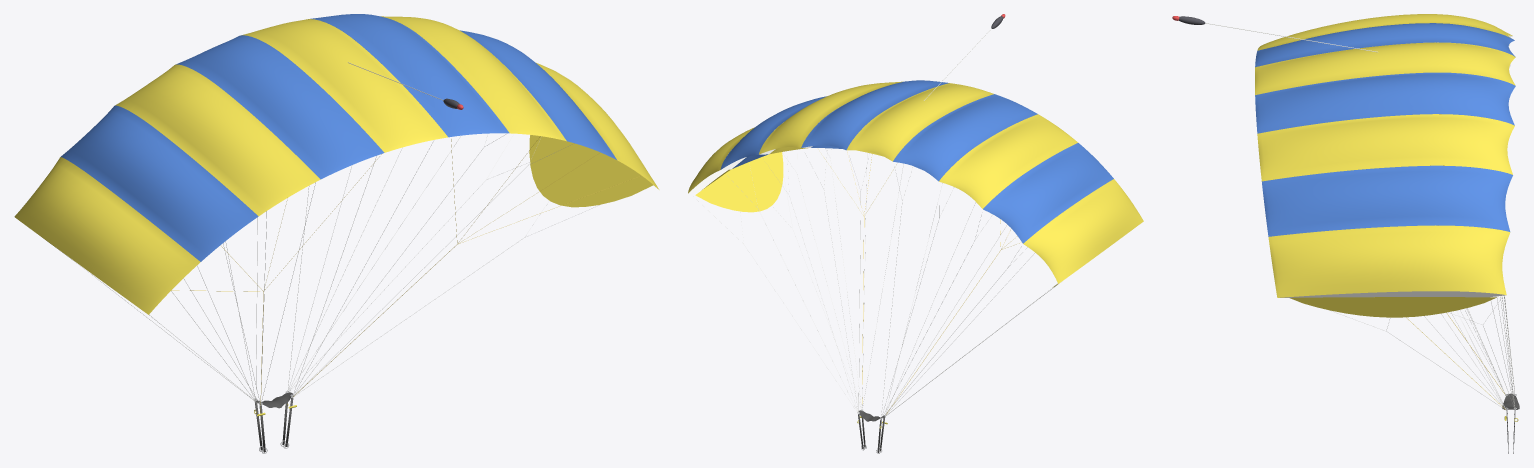
File: PD_Navigator_240.glb
3 views of the same model, side by side, from view 1: azimuth 30°, elevation 25°; view 2: azimuth 150°, elevation 25°; view 3: azimuth 270°, elevation 25° (orthographic). The views are drawn at different scales.
Parts seen in each view (by area): view 1: TopSkin, Stabilizers, Lines, SteeringLines, Risers; view 2: TopSkin, Stabilizers, Lines; view 3: TopSkin, Stabilizers, Lines, Ribs, PilotChute.
Boxes of the visible parts, x1,y1,x2,y2 form: TopSkin: [14, 14, 659, 314]; Stabilizers: [529, 135, 652, 207]; Lines: [46, 134, 599, 405]; SteeringLines: [171, 136, 640, 413]; Risers: [254, 393, 296, 453]; TopSkin: [688, 80, 1143, 283]; Stabilizers: [695, 152, 1057, 287]; Lines: [696, 149, 1058, 419]; TopSkin: [1255, 14, 1515, 297]; Stabilizers: [1290, 297, 1496, 317]; Lines: [1330, 48, 1515, 409]; Ribs: [1280, 35, 1512, 297]; PilotChute: [1172, 16, 1377, 52].
Size of the model in its own units: 6.54 by 5.54 by 4.02.
